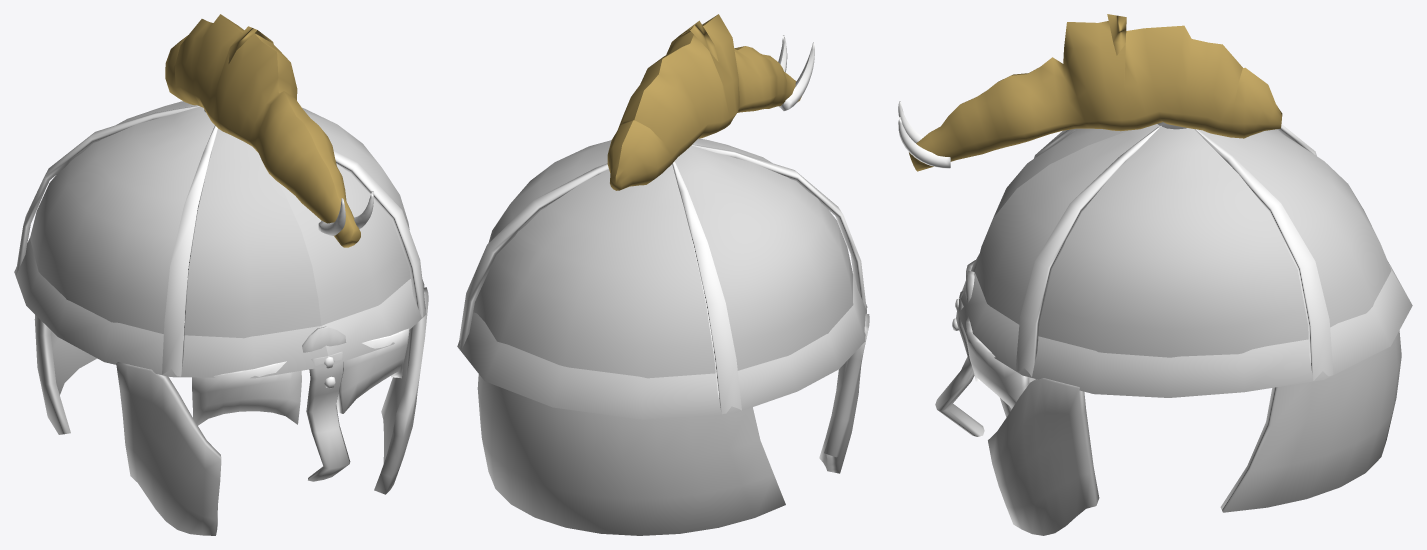
File: helm-warden-boar.glb
The picture shows the model from 3 angles, left to right: view 1: azimuth 30°, elevation 25°; view 2: azimuth 150°, elevation 25°; view 3: azimuth 270°, elevation 25°; orthographic projection. The views are drawn at different scales.
Visible parts, largest first — view 1: helm-warden-boar; view 2: helm-warden-boar; view 3: helm-warden-boar.
Part boxes in pixels (left/top/right/bottom): helm-warden-boar: left=14, top=14, right=428, bottom=535; helm-warden-boar: left=457, top=14, right=869, bottom=535; helm-warden-boar: left=898, top=14, right=1412, bottom=535.
Size of the model in its own units: 0.2436 by 0.3096 by 0.3076.
